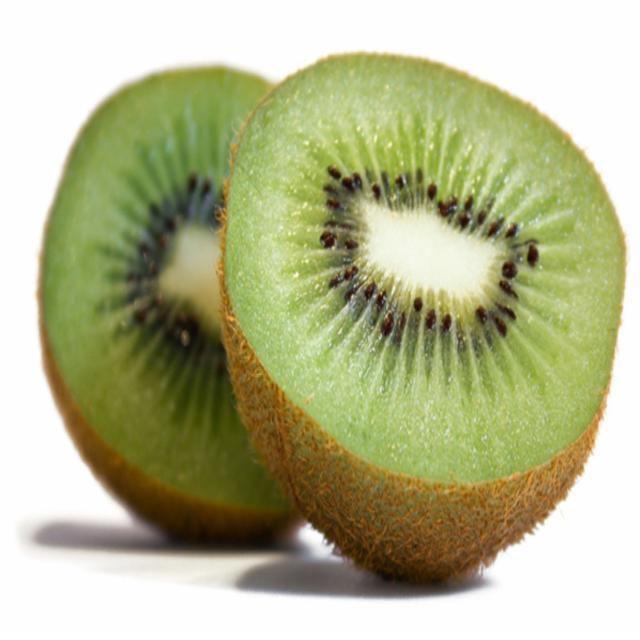Qiwi: (234, 68, 627, 569), (55, 61, 243, 521)
